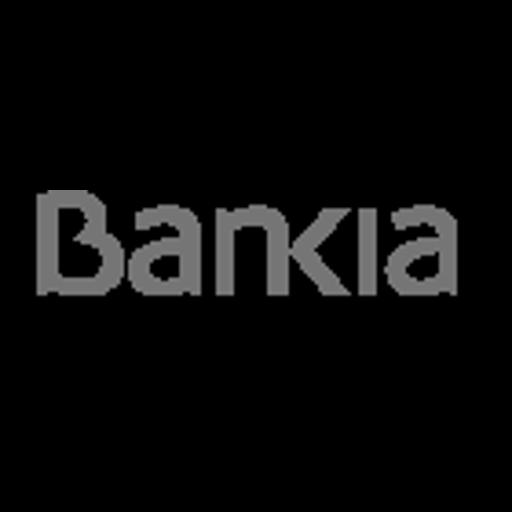Bankia: (0, 190, 512, 321)
